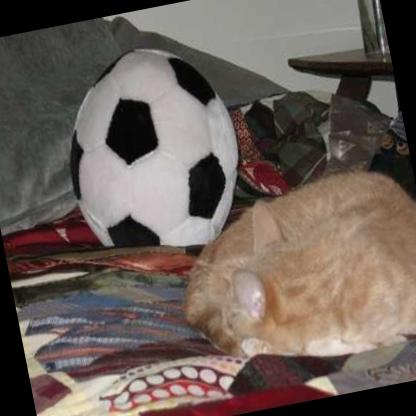ball: (48, 32, 258, 266)
